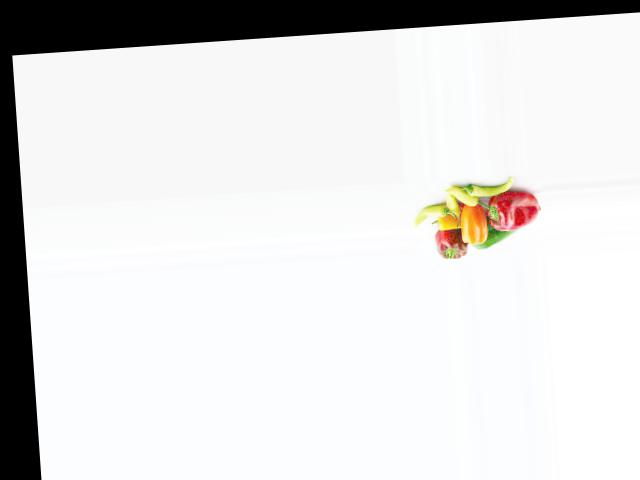bell_pepper: (458, 177, 518, 198)
